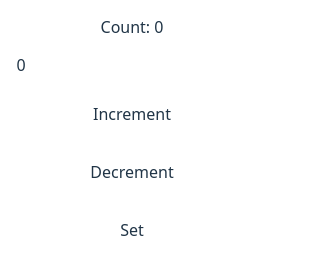
Scenario: test counter component › click on decrement button
Click the button "Decrement" at (132, 172), box [16,151,248,193]
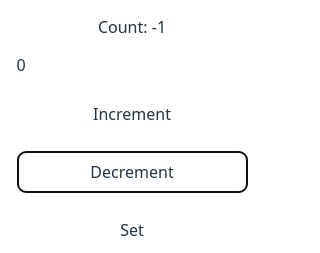
Check: the heading shows "-1", box [152,16,166,38]
